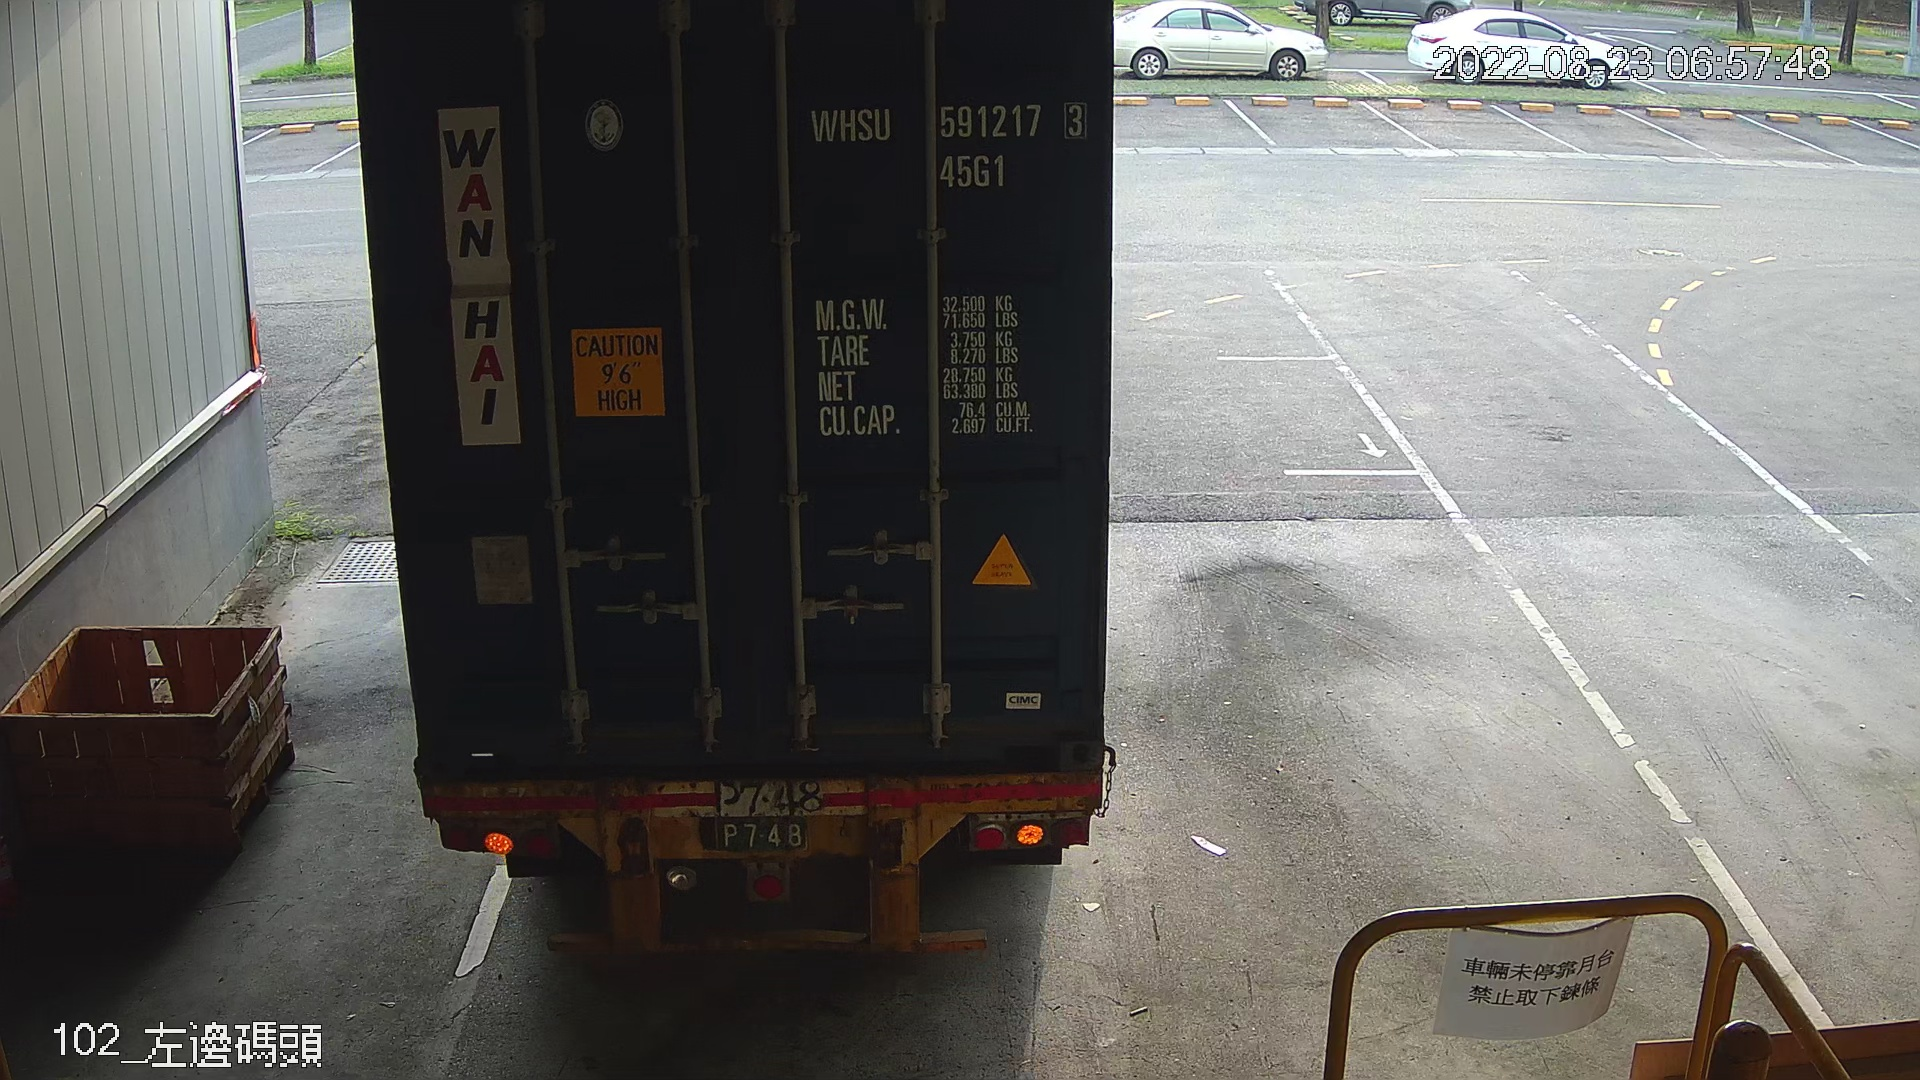container: (798, 91, 1101, 198)
